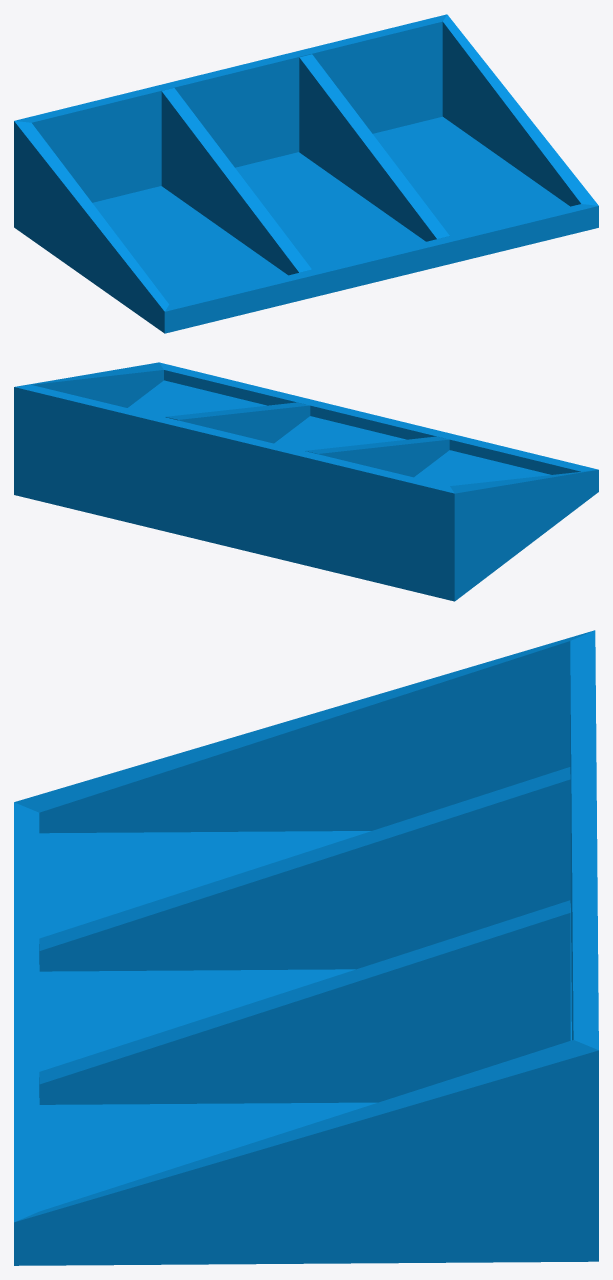
Rendered from Sellers Box 03.fbx.
3 views of the same model, one above another, from view 1: azimuth 30°, elevation 25°; view 2: azimuth 150°, elevation 25°; view 3: azimuth 270°, elevation 25° (orthographic). The views are drawn at different scales.
Parts seen in each view (by area): view 1: Sellers Box 03; view 2: Sellers Box 03; view 3: Sellers Box 03.
Boxes of the visible parts, box(x1,y1,x2,y2) form: Sellers Box 03: box(14, 14, 598, 333); Sellers Box 03: box(14, 362, 598, 601); Sellers Box 03: box(14, 630, 598, 1265).
Bounding box in the file's own units: 238 × 55.36 × 139.
